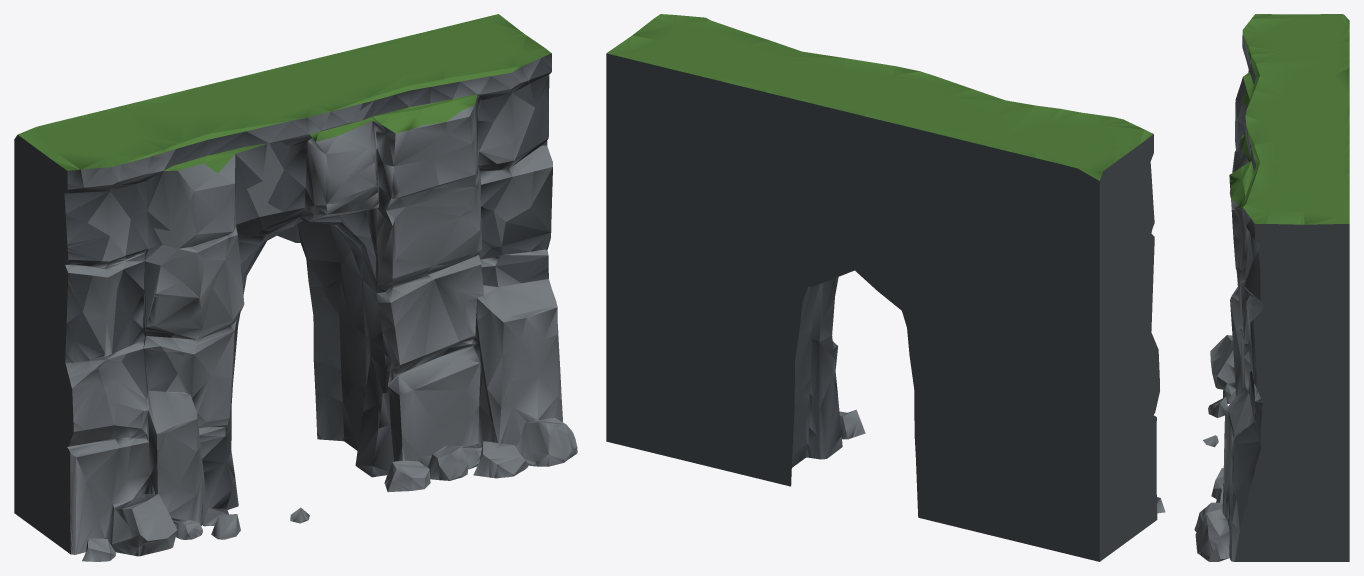
Rendered from mdvl_nature_cave_01.glb.
3 renders of one model, left to right at view 1: azimuth 30°, elevation 25°; view 2: azimuth 150°, elevation 25°; view 3: azimuth 270°, elevation 25°, orthographic. The views are drawn at different scales.
Visible parts, largest first — view 1: mdvl_nature_cave_01; view 2: mdvl_nature_cave_01; view 3: mdvl_nature_cave_01.
Part boxes in pixels (x1,y1,x2,y2): mdvl_nature_cave_01: (14, 14, 577, 561); mdvl_nature_cave_01: (606, 14, 1165, 561); mdvl_nature_cave_01: (1194, 14, 1349, 561).
Bounding box in the file's own units: 4 × 3.01 × 1.25.
1 material, 1 textured.
